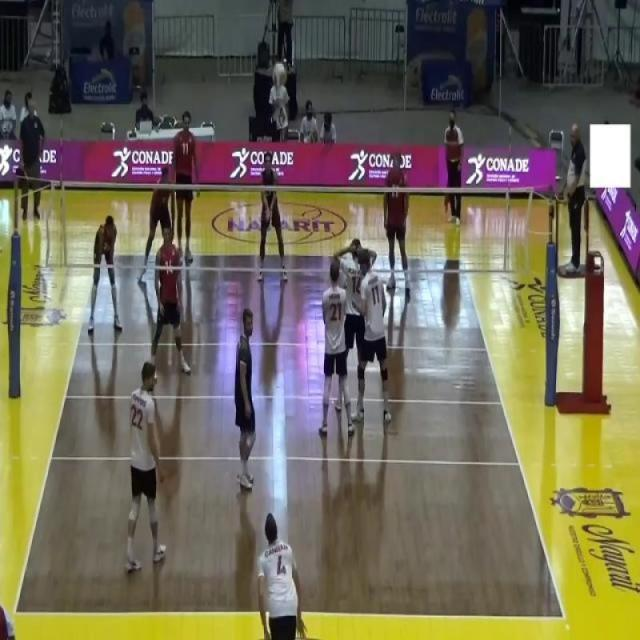volleyball: (272, 62, 287, 88)
